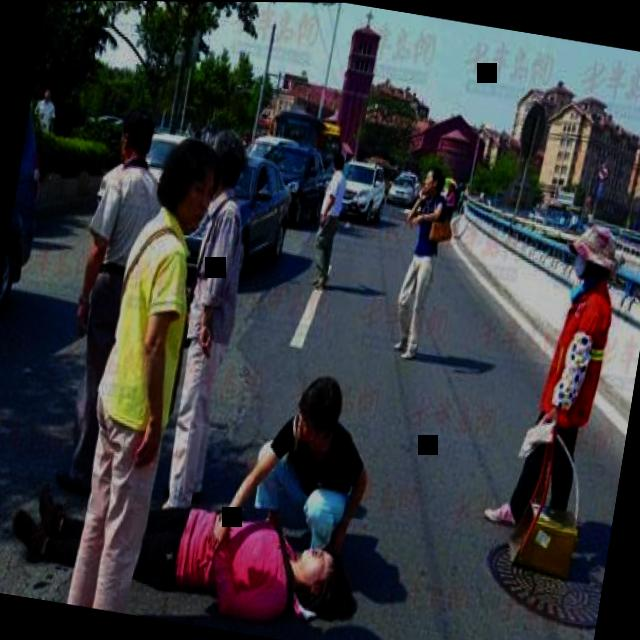Fall-Detected: (0, 443, 371, 640)
